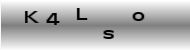4: (46, 12, 59, 25)
K: (23, 10, 39, 24)
L: (75, 7, 87, 20)
o: (131, 11, 144, 21)
s: (102, 28, 115, 39)
